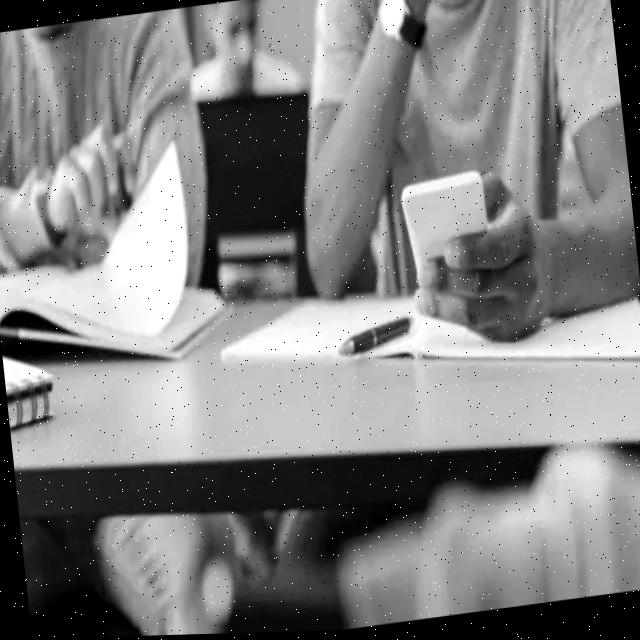phone: (392, 164, 498, 289)
